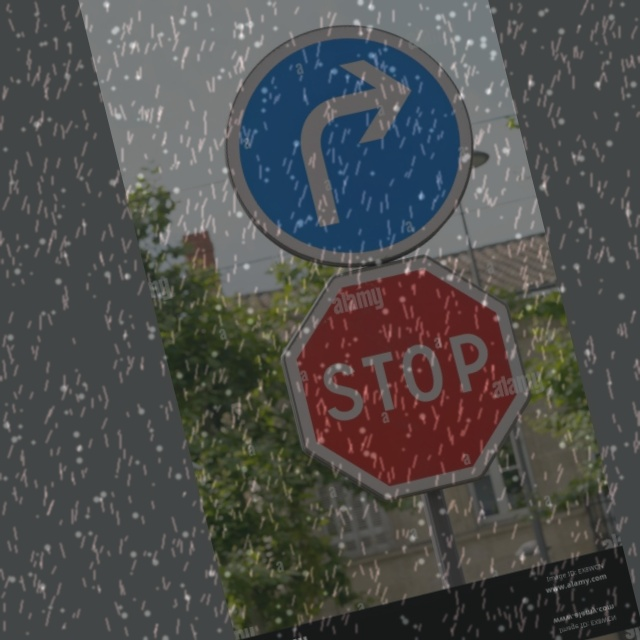Compulsory_Turn_Right_Ahead: (201, 1, 501, 288)
